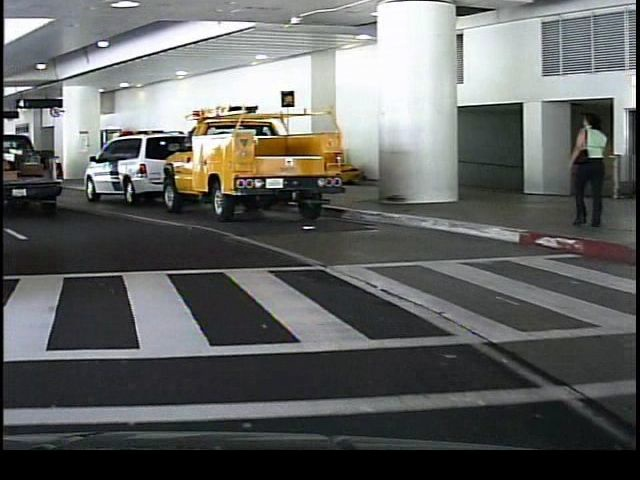person: (561, 109, 611, 232)
